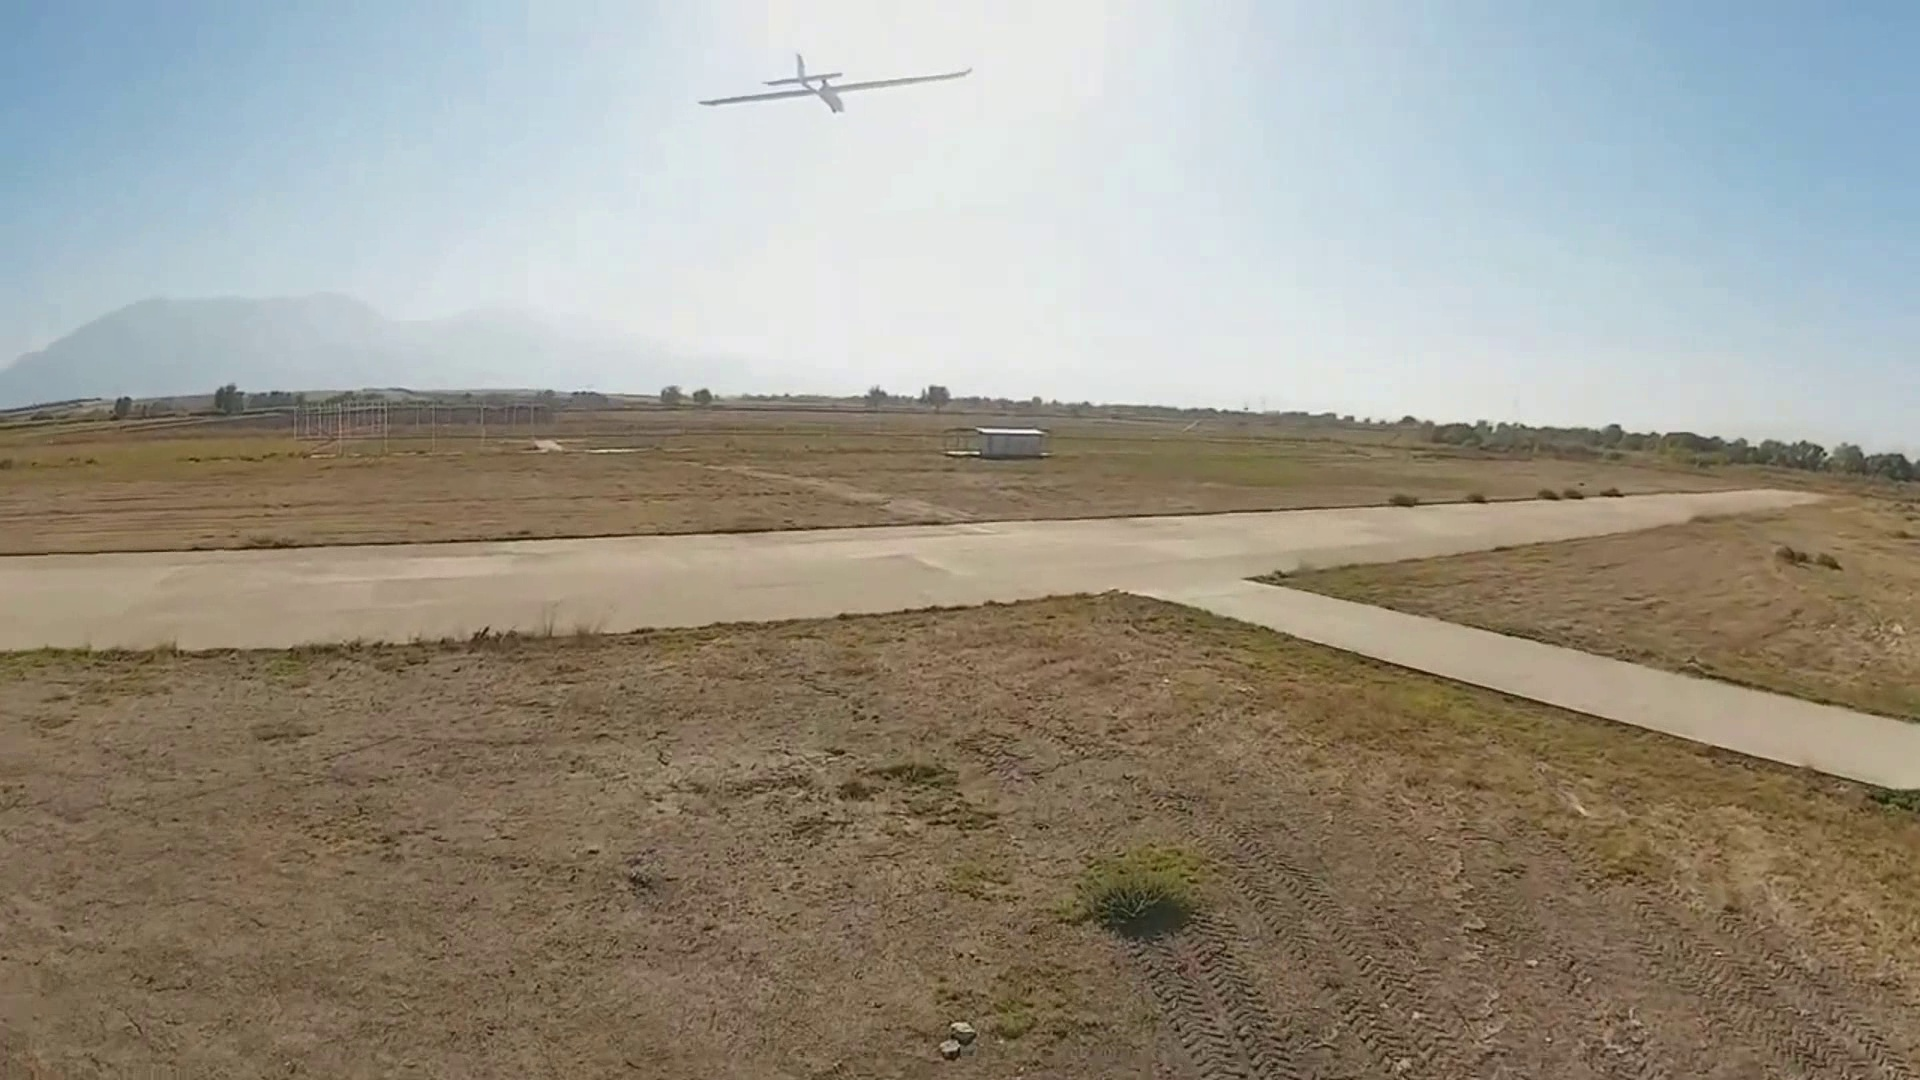airplane: (698, 49, 977, 113)
